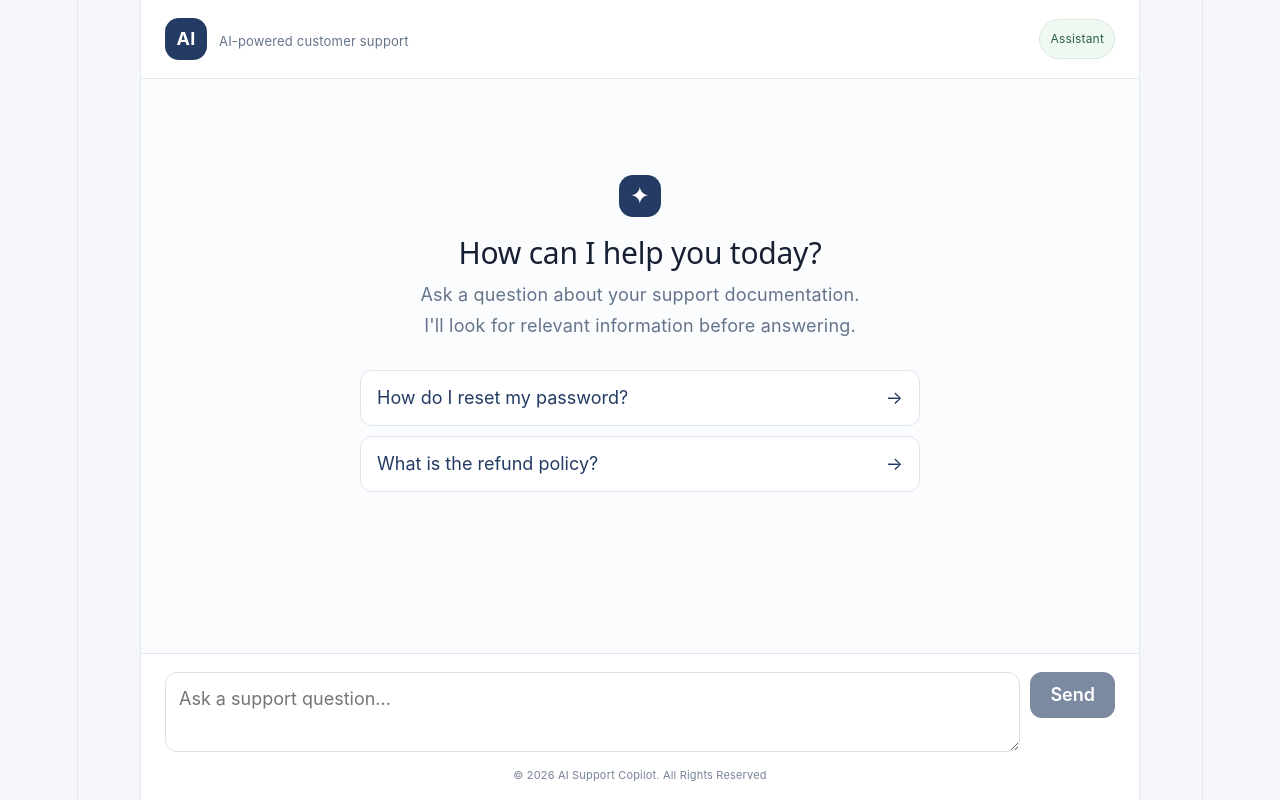
Test: AI Support Copilot › displays citations returned by the API
Click the button "How do I reset my password? →": [503, 397] box [360,370,920,426]
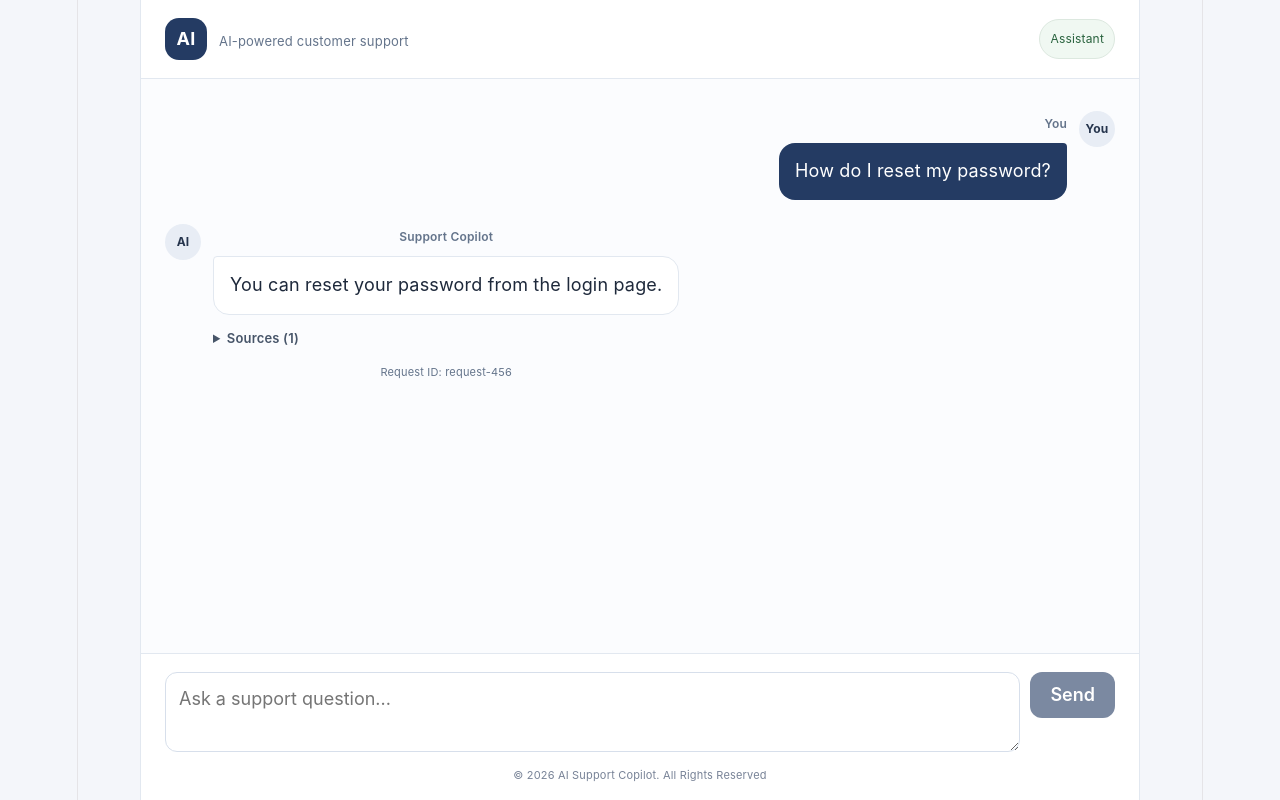
Now the heading "Sources (1)" is shown, box [227,330,299,346]
